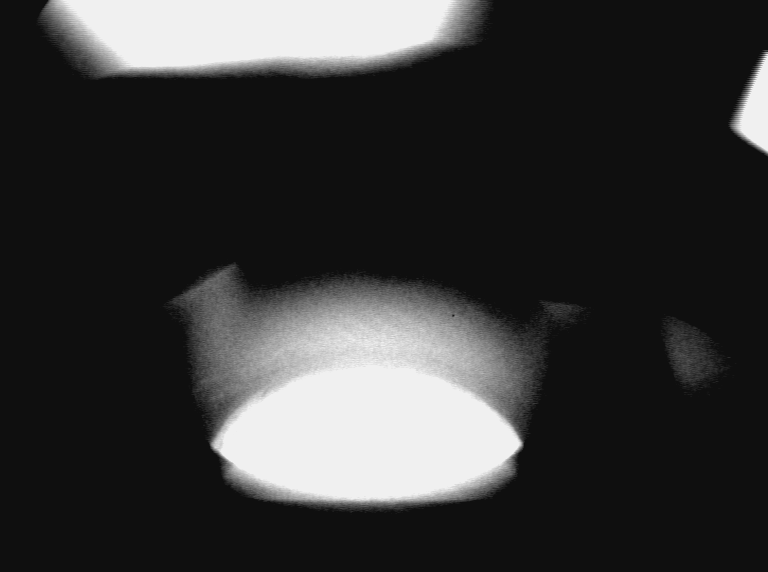defect: (175, 260, 254, 330)
